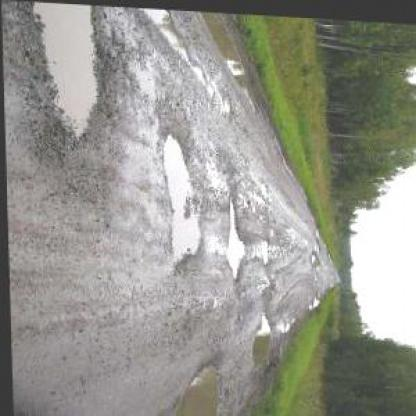pothole: (159, 129, 204, 276), (169, 356, 223, 414), (222, 194, 245, 279), (245, 308, 276, 363), (258, 234, 270, 264), (306, 292, 321, 308)
